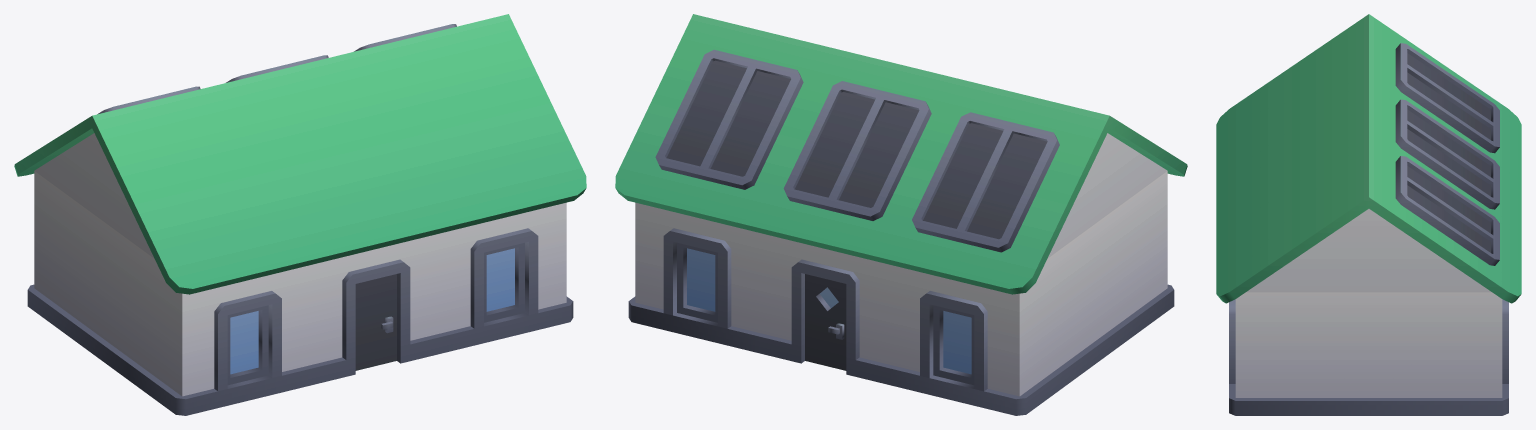
File: house-h.glb
3 views of the same model, side by side, from view 1: azimuth 30°, elevation 25°; view 2: azimuth 150°, elevation 25°; view 3: azimuth 270°, elevation 25° (orthographic). The views are drawn at different scales.
Visible parts, largest first — view 1: building-type-h; view 2: building-type-h; view 3: building-type-h.
Boxes of the visible parts, x1,y1,x2,y2 form: building-type-h: [14, 14, 586, 415]; building-type-h: [615, 14, 1187, 415]; building-type-h: [1216, 14, 1521, 415].
Bounding box in the file's own units: 1.3 × 0.7375 × 0.9161.
Materials: 1 (1 with a texture image).
